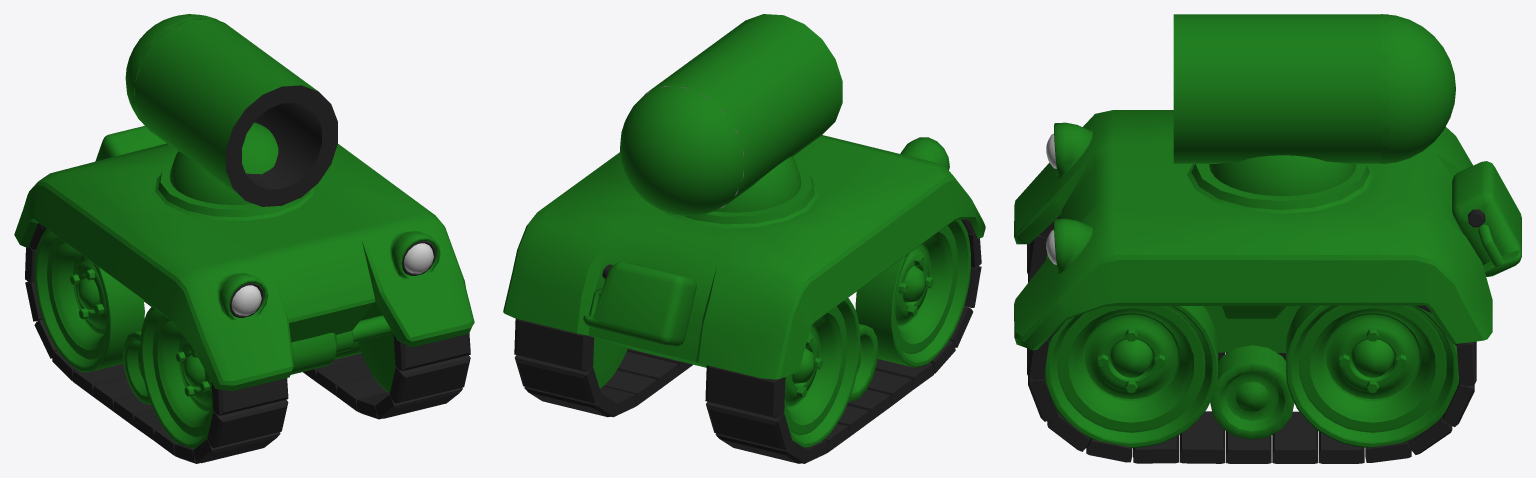
The model's file is BoxingTank.FBX.
3 views of the same model, side by side, from view 1: azimuth 30°, elevation 25°; view 2: azimuth 150°, elevation 25°; view 3: azimuth 270°, elevation 25° (orthographic). The views are drawn at different scales.
Visible parts, largest first — view 1: TankChassis, TankTracksRight, Cannon, TankTracksLeft, SphereAxis; view 2: TankChassis, TankTracksRight, Cannon, TankTracksLeft, SphereAxis; view 3: TankChassis, TankTracksLeft, Cannon, SphereAxis, TankTracksRight.
Boxes of the visible parts, box(x1,y1,x2,y2) form: TankChassis: box(14, 126, 474, 404); TankTracksRight: box(25, 223, 288, 463); Cannon: box(125, 14, 337, 206); TankTracksLeft: box(303, 302, 470, 419); SphereAxis: box(170, 122, 278, 204); TankChassis: box(503, 135, 985, 401); TankTracksRight: box(705, 219, 981, 463); Cannon: box(620, 14, 842, 216); TankTracksLeft: box(514, 318, 692, 417); SphereAxis: box(715, 156, 801, 212); TankChassis: box(1014, 110, 1521, 439); TankTracksLeft: box(1027, 305, 1476, 463); Cannon: box(1173, 14, 1455, 163); SphereAxis: box(1209, 155, 1356, 196); TankTracksRight: box(1027, 215, 1285, 361).
Size of the model in its own units: 170 by 193 by 237.
